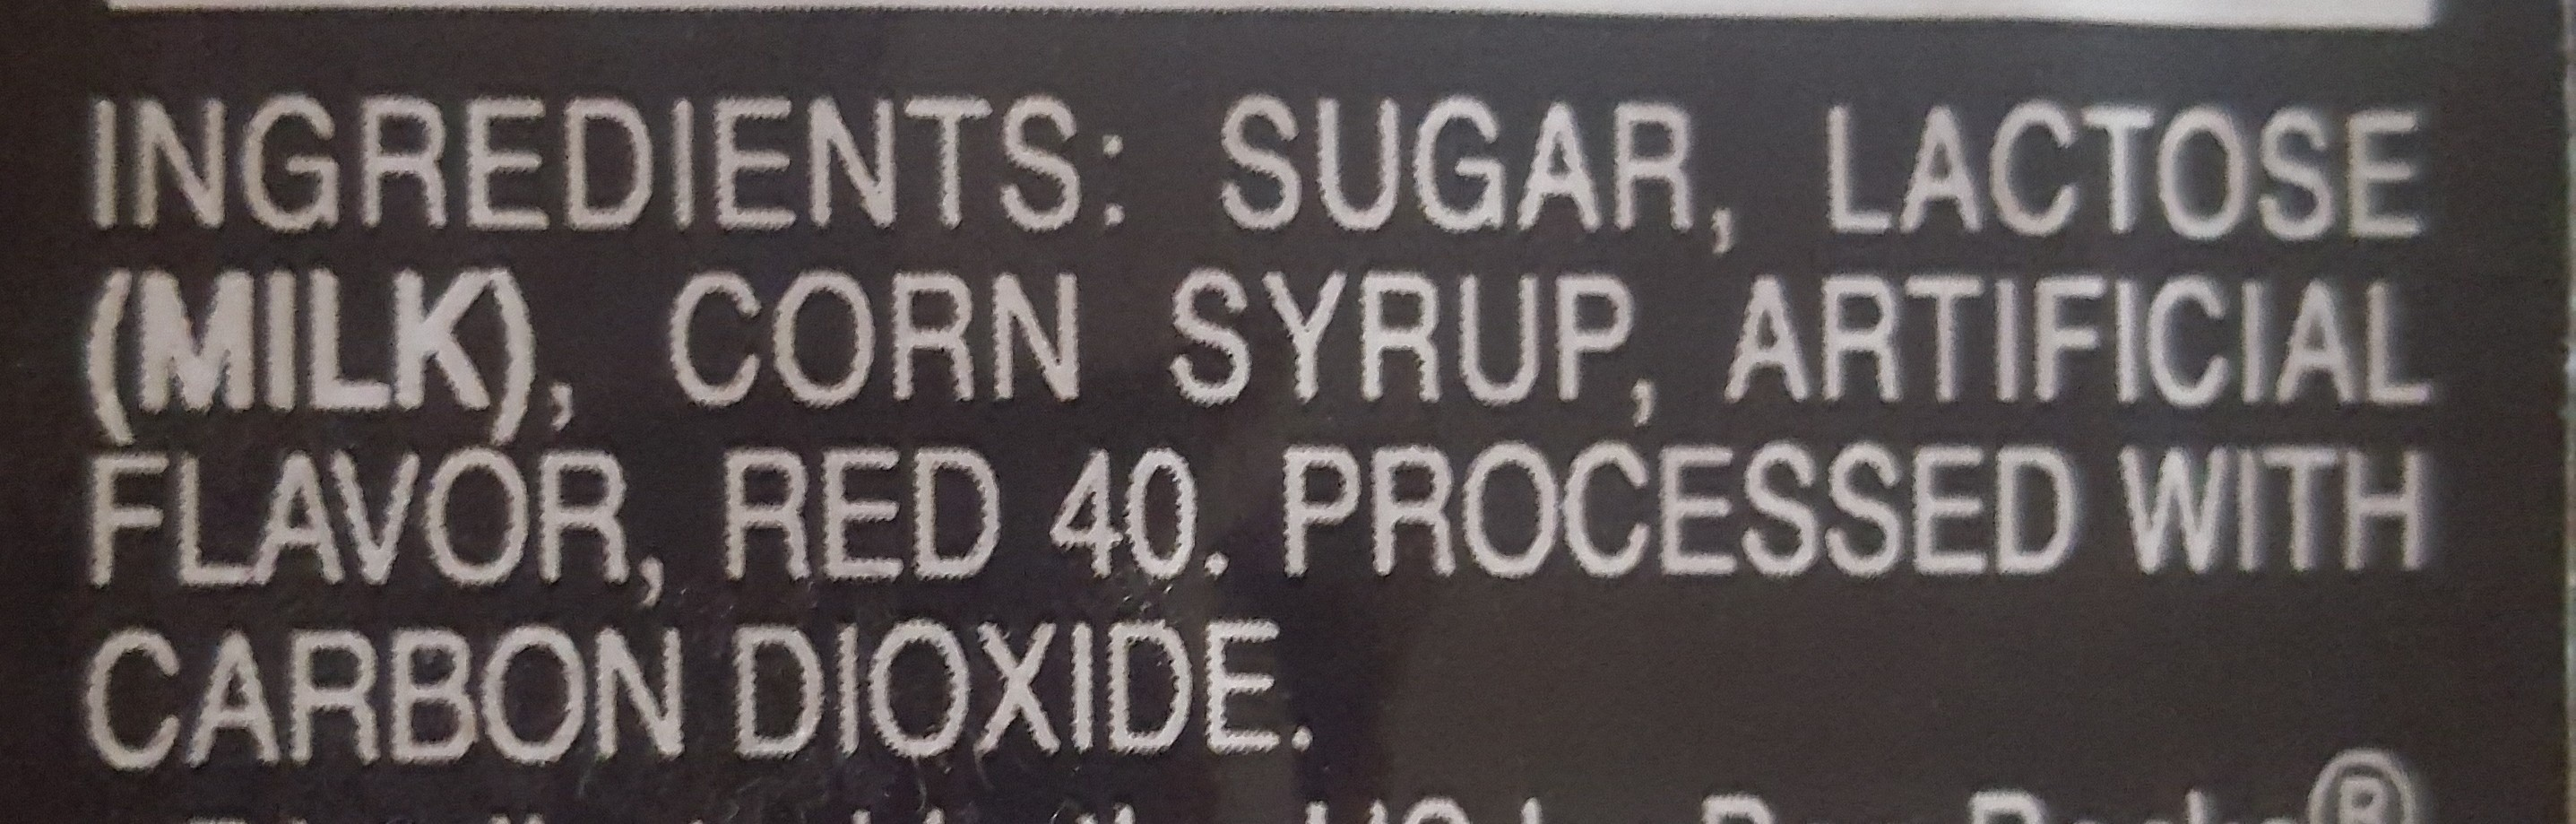ingredients: (21, 38, 2543, 776)
